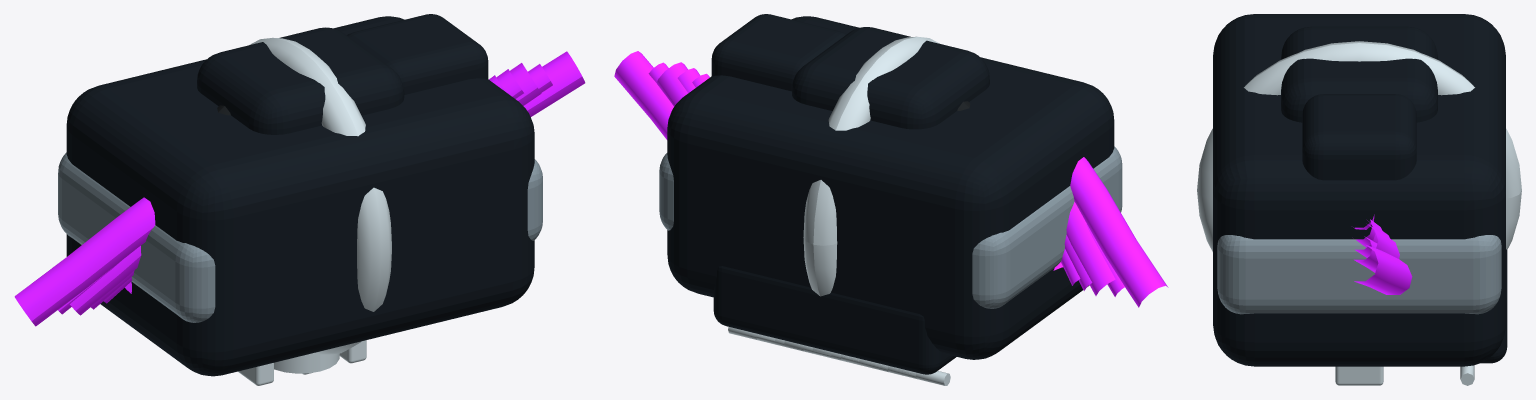
Rendered from electrical_20.glb.
3 views of the same model, side by side, from view 1: azimuth 30°, elevation 25°; view 2: azimuth 150°, elevation 25°; view 3: azimuth 270°, elevation 25° (orthographic). The views are drawn at different scales.
Parts seen in each view (by area): view 1: asset_mesh__electrical_1043__reference_body, asset_mesh__electrical_1069__sensor_body, asset_mesh__electrical_1068__controller_case, asset_mesh__electrical_1070__current_path, asset_mesh__electrical_1078__functional_ring, asset_mesh__electrical_1069__connector, asset_mesh__electrical_1085__current_path, asset_mesh__electrical_1069__sensor_probe, asset_mesh__electrical_1093__current_path, asset_mesh__electrical_1086__current_path, asset_mesh__electrical_1067__blade_1; view 2: asset_mesh__electrical_1043__reference_body, asset_mesh__electrical_1068__connector_bank, asset_mesh__electrical_1069__sensor_body, asset_mesh__electrical_1068__controller_case, asset_mesh__electrical_1070__current_path, asset_mesh__electrical_1078__functional_ring, asset_mesh__electrical_1069__connector, asset_mesh__electrical_1085__current_path, asset_mesh__electrical_1093__current_path, asset_mesh__electrical_1086__current_path; view 3: asset_mesh__electrical_1043__reference_body, asset_mesh__electrical_1068__controller_case, asset_mesh__electrical_1069__connector, asset_mesh__electrical_1069__sensor_body, asset_mesh__electrical_1078__functional_ring, asset_mesh__electrical_1070__current_path, asset_mesh__electrical_1067__blade_3, asset_mesh__electrical_1068__connector_bank, asset_mesh__electrical_1085__current_path.
Boxes of the visible parts, left/top/right/bottom form: asset_mesh__electrical_1043__reference_body: left=66, top=16, right=534, bottom=376; asset_mesh__electrical_1069__sensor_body: left=197, top=27, right=404, bottom=134; asset_mesh__electrical_1068__controller_case: left=58, top=152, right=542, bottom=322; asset_mesh__electrical_1070__current_path: left=14, top=51, right=585, bottom=326; asset_mesh__electrical_1078__functional_ring: left=249, top=37, right=391, bottom=354; asset_mesh__electrical_1069__connector: left=347, top=14, right=488, bottom=94; asset_mesh__electrical_1085__current_path: left=70, top=63, right=541, bottom=315; asset_mesh__electrical_1069__sensor_probe: left=274, top=353, right=339, bottom=373; asset_mesh__electrical_1093__current_path: left=91, top=69, right=523, bottom=309; asset_mesh__electrical_1086__current_path: left=58, top=64, right=552, bottom=314; asset_mesh__electrical_1067__blade_1: left=238, top=363, right=273, bottom=385; asset_mesh__electrical_1043__reference_body: left=667, top=16, right=1114, bottom=359; asset_mesh__electrical_1068__connector_bank: left=713, top=266, right=956, bottom=374; asset_mesh__electrical_1069__sensor_body: left=792, top=27, right=989, bottom=129; asset_mesh__electrical_1068__controller_case: left=659, top=146, right=1122, bottom=308; asset_mesh__electrical_1070__current_path: left=614, top=51, right=1168, bottom=307; asset_mesh__electrical_1078__functional_ring: left=803, top=36, right=939, bottom=296; asset_mesh__electrical_1069__connector: left=711, top=14, right=846, bottom=91; asset_mesh__electrical_1085__current_path: left=656, top=62, right=1115, bottom=295; asset_mesh__electrical_1093__current_path: left=677, top=68, right=1092, bottom=290; asset_mesh__electrical_1086__current_path: left=648, top=62, right=1124, bottom=296; asset_mesh__electrical_1043__reference_body: left=1213, top=14, right=1505, bottom=366; asset_mesh__electrical_1068__controller_case: left=1217, top=235, right=1501, bottom=314; asset_mesh__electrical_1069__connector: left=1302, top=94, right=1416, bottom=180; asset_mesh__electrical_1069__sensor_body: left=1281, top=26, right=1437, bottom=122; asset_mesh__electrical_1078__functional_ring: left=1197, top=41, right=1521, bottom=251; asset_mesh__electrical_1070__current_path: left=1354, top=245, right=1412, bottom=294; asset_mesh__electrical_1067__blade_3: left=1335, top=366, right=1383, bottom=385; asset_mesh__electrical_1068__connector_bank: left=1481, top=249, right=1507, bottom=363; asset_mesh__electrical_1085__current_path: left=1354, top=224, right=1399, bottom=272.
Size of the model in its own units: 1.73 by 0.9221 by 0.8573.
